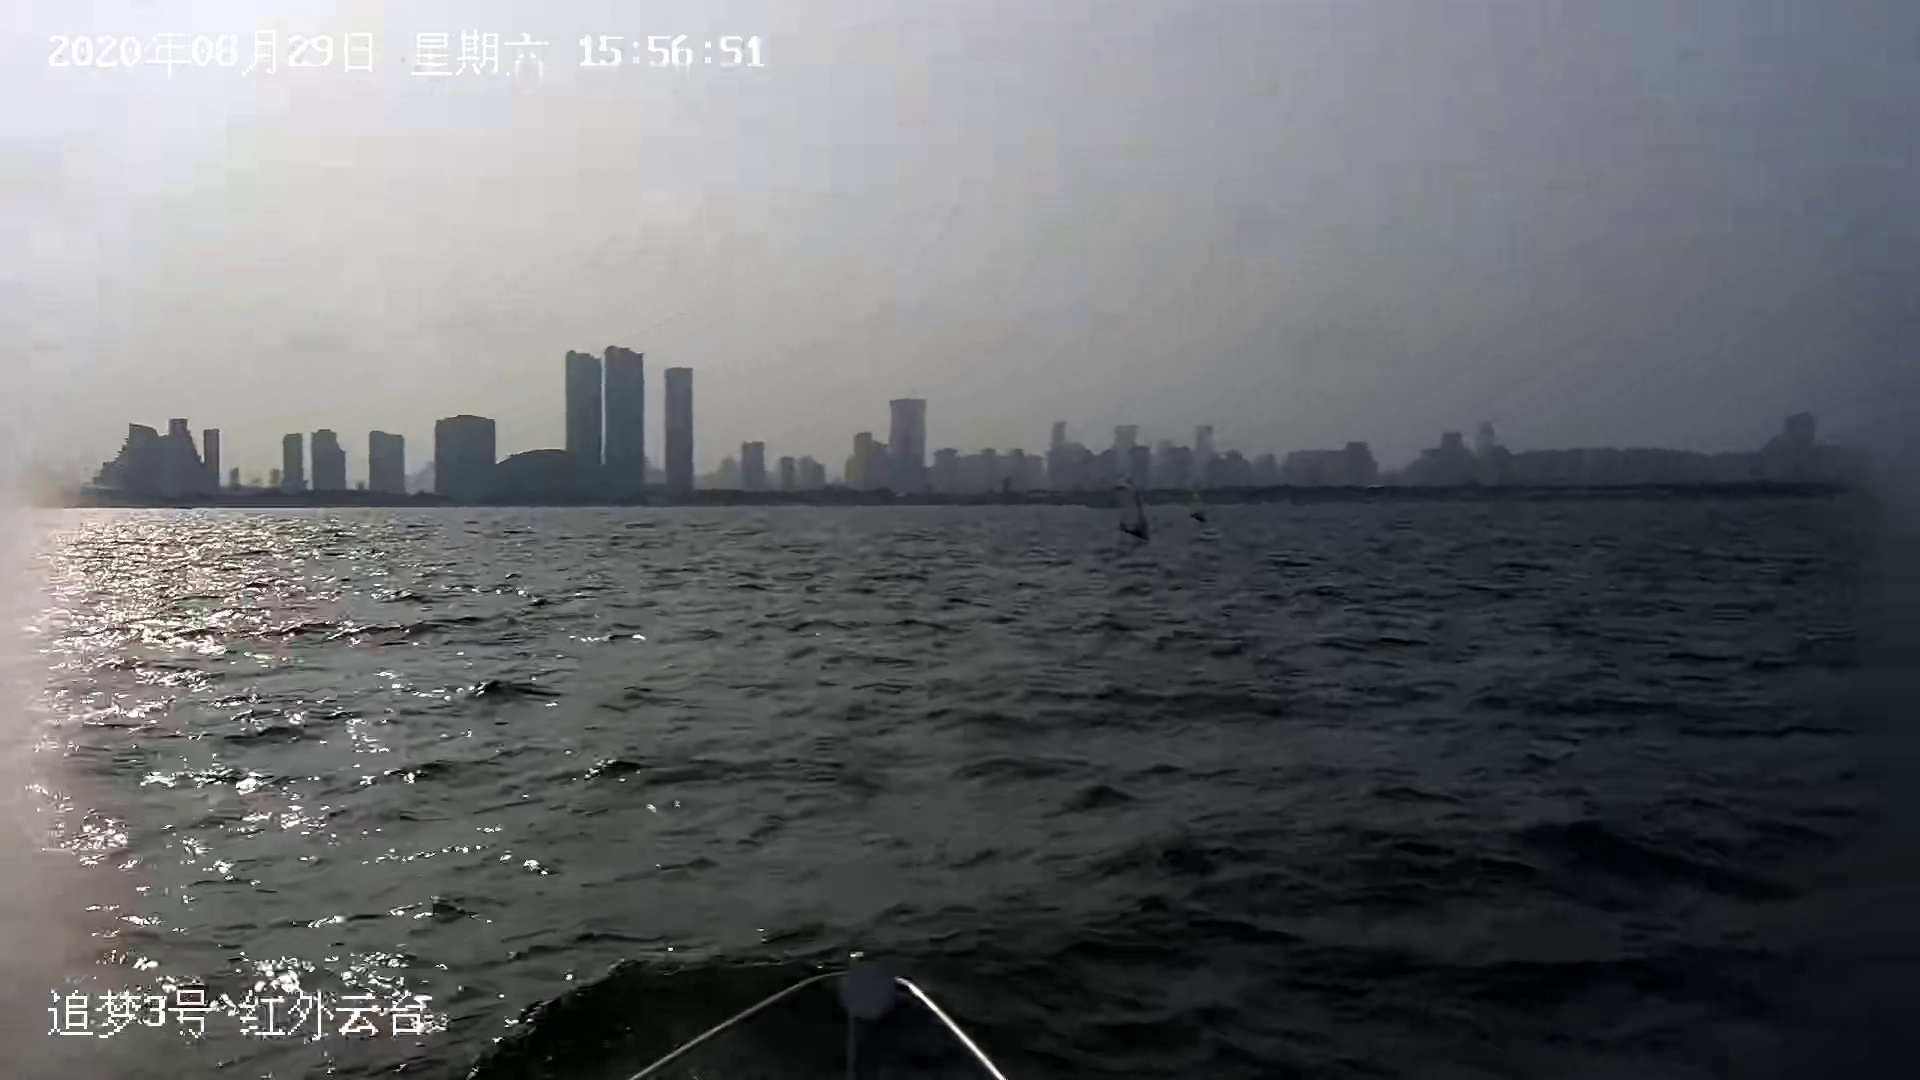barrier: (1117, 475, 1151, 549), (1189, 481, 1222, 547)
coast: (65, 345, 1875, 514)
